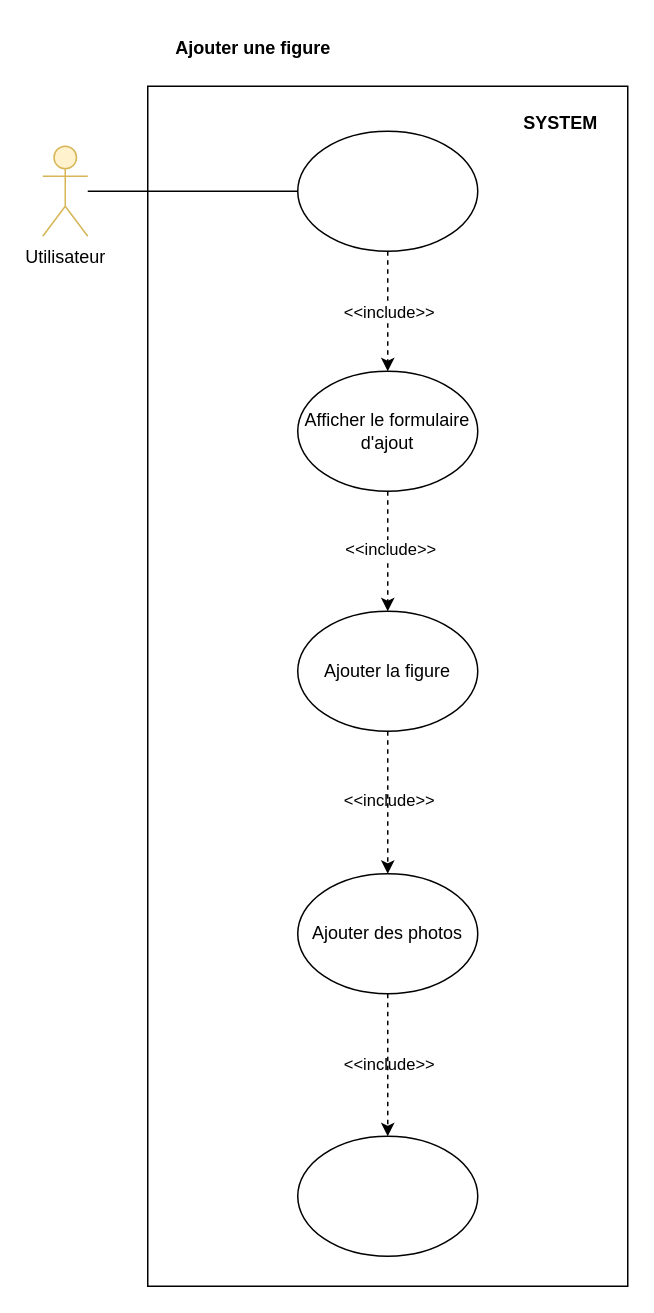
Some shapes in this 654 by 1313 pixel diagram are drawn without their labels. Here are the shapes that lost their labels. From the top down, the centre of each, then its label:
At [387,190]: "Connexion à l'application".
At [387,1195]: "Ajouter des vidéos".
